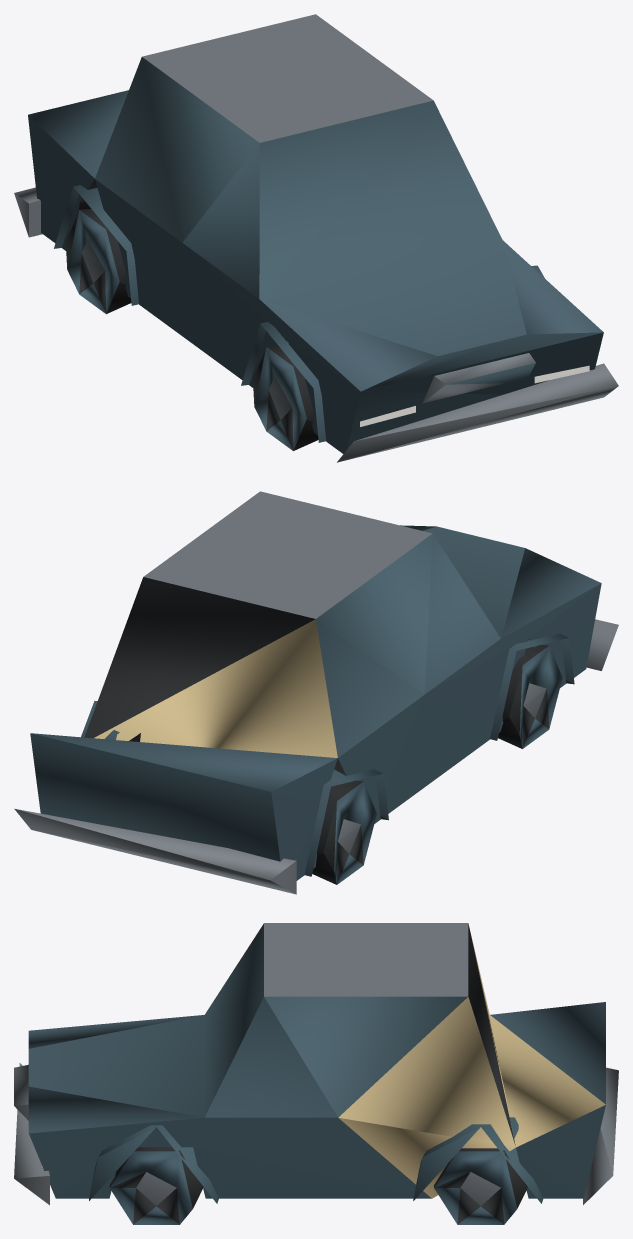
The model's file is sedan-ambient.high.6f05cdd4.glb.
3 views of the same model, one above another, from view 1: azimuth 30°, elevation 25°; view 2: azimuth 150°, elevation 25°; view 3: azimuth 270°, elevation 25° (orthographic). The views are drawn at different scales.
Visible parts, largest first — view 1: sedan-ambient; view 2: sedan-ambient; view 3: sedan-ambient.
Boxes of the visible parts, left/top/right/bottom form: sedan-ambient: left=14, top=14, right=618, bottom=462; sedan-ambient: left=14, top=491, right=618, bottom=894; sedan-ambient: left=14, top=923, right=618, bottom=1224.
Bounding box in the file's own units: 2.14 × 1.89 × 4.8.
